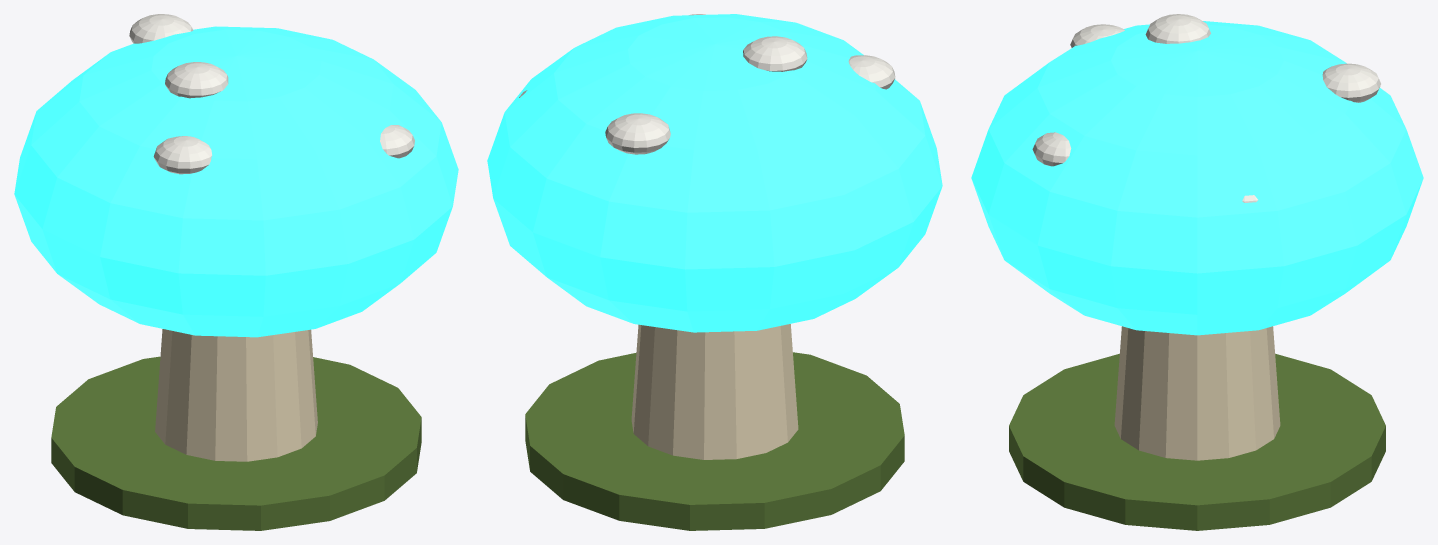
Rendered from mushroom-lod0.glb.
3 views of the same model, side by side, from view 1: azimuth 30°, elevation 25°; view 2: azimuth 150°, elevation 25°; view 3: azimuth 270°, elevation 25° (orthographic). The views are drawn at different scales.
Parts seen in each view (by area): view 1: mushroom; view 2: mushroom; view 3: mushroom.
Part boxes in pixels (bbox=[...]): mushroom: bbox=[14, 14, 458, 530]; mushroom: bbox=[487, 14, 942, 530]; mushroom: bbox=[971, 14, 1423, 530].
Bounding box in the file's own units: 0.48 × 0.4775 × 0.48.
